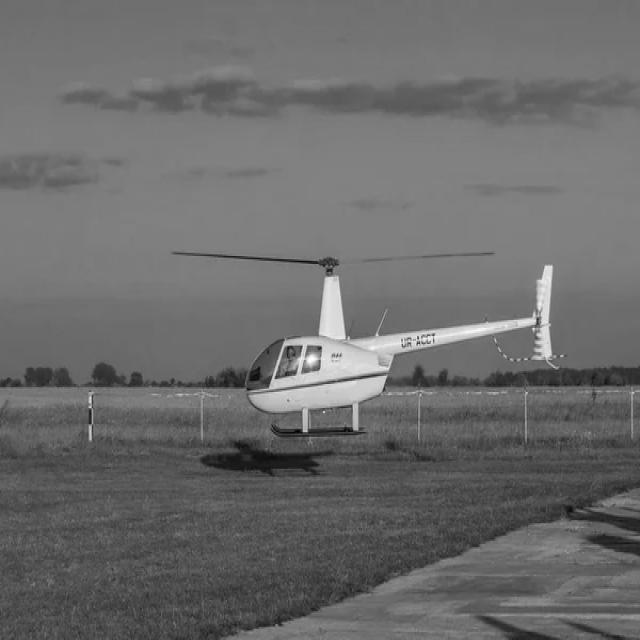Helicopter: (174, 248, 561, 438)
